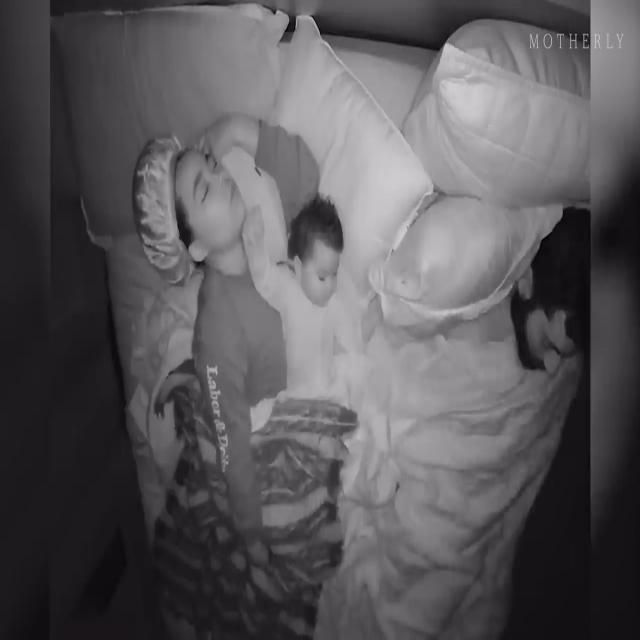baby: (241, 185, 357, 386)
